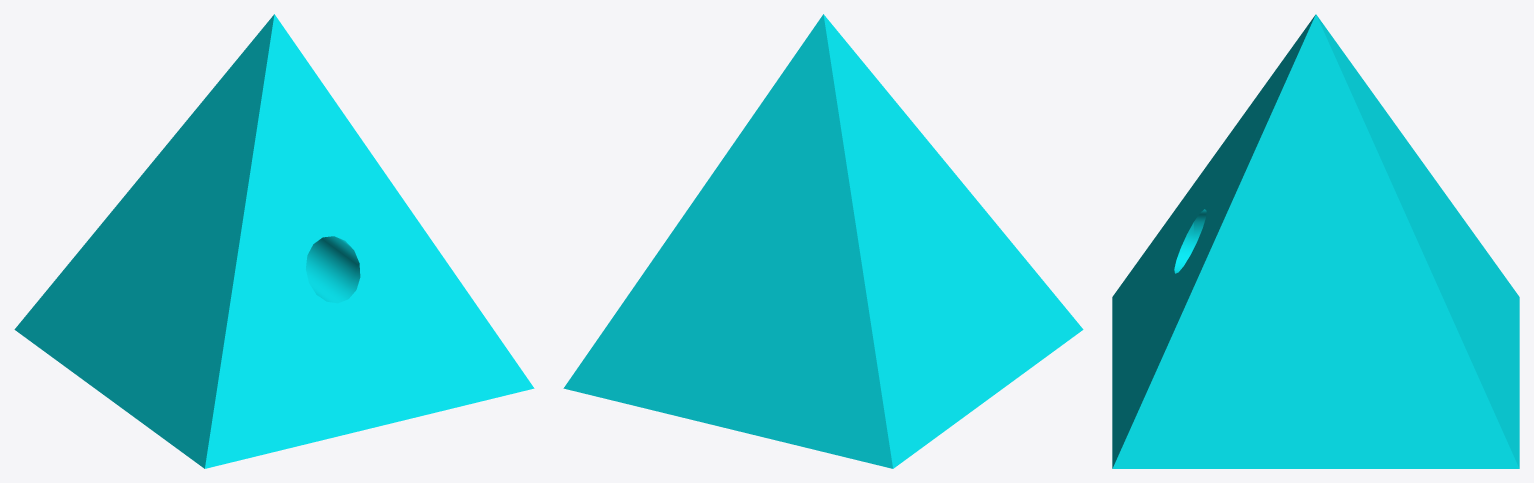
Rendered from piramide-opaco.glb.
The picture shows the model from 3 angles, left to right: view 1: azimuth 30°, elevation 25°; view 2: azimuth 150°, elevation 25°; view 3: azimuth 270°, elevation 25°; orthographic projection. The views are drawn at different scales.
Visible parts, largest first — view 1: Carcasa; view 2: Carcasa; view 3: Carcasa.
Boxes of the visible parts, x1,y1,x2,y2 form: Carcasa: [14, 14, 534, 468]; Carcasa: [563, 14, 1083, 468]; Carcasa: [1112, 14, 1519, 468].
Size of the model in its own units: 0.635 by 0.635 by 0.635.
